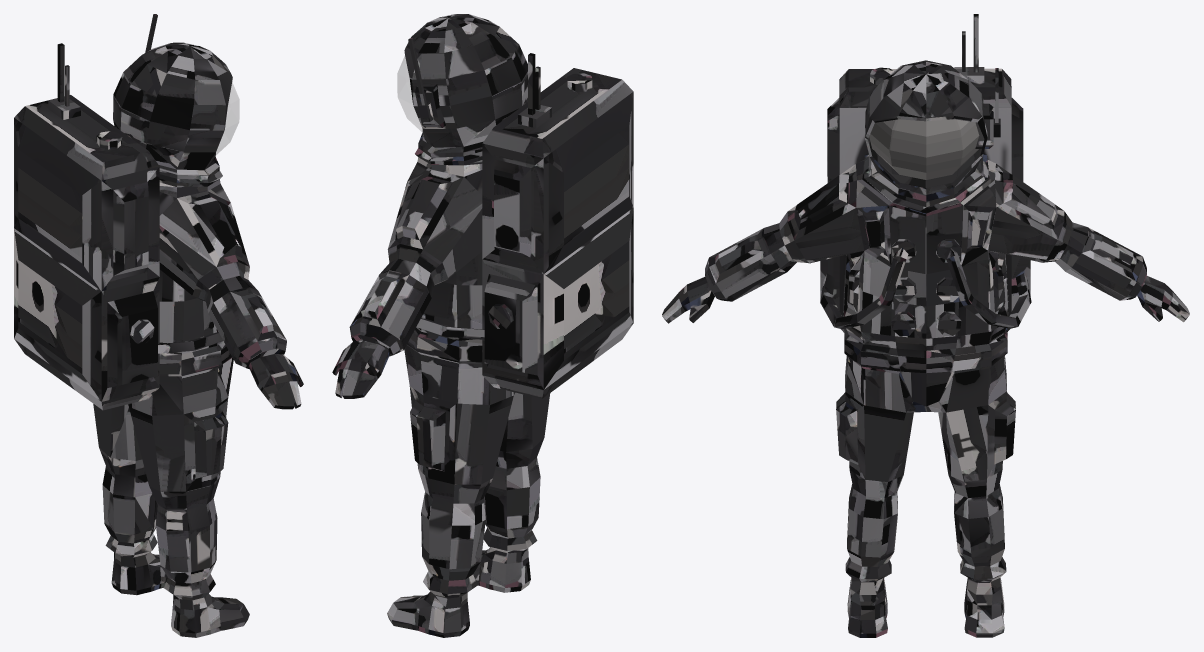
File: astronaut.glb
3 views of the same model, side by side, from view 1: azimuth 30°, elevation 25°; view 2: azimuth 150°, elevation 25°; view 3: azimuth 270°, elevation 25° (orthographic). The views are drawn at different scales.
Parts seen in each view (by area): view 1: Suit, Glass; view 2: Suit, Glass; view 3: Suit, Glass, Helmet.
Boxes of the visible parts, left/top/right/bottom form: Suit: left=14, top=14, right=303, bottom=637; Glass: left=216, top=83, right=239, bottom=154; Suit: left=332, top=14, right=633, bottom=637; Glass: left=397, top=56, right=422, bottom=131; Suit: left=662, top=14, right=1189, bottom=637; Glass: left=868, top=120, right=983, bottom=187; Helmet: left=869, top=119, right=979, bottom=179.
Bounding box in the file's own units: 0.7508 × 2.22 × 1.89.
Materials: 3 (1 with a texture image).
